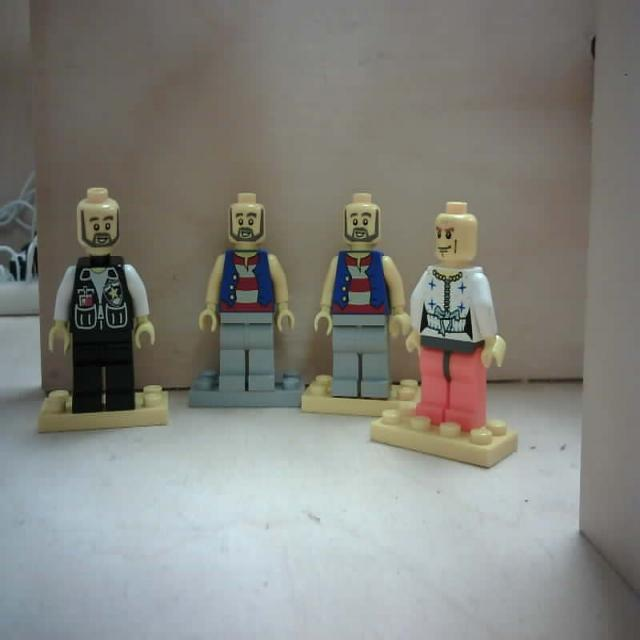Lego-People: (368, 195, 526, 479), (28, 180, 173, 437), (294, 188, 421, 430), (187, 169, 311, 415)
